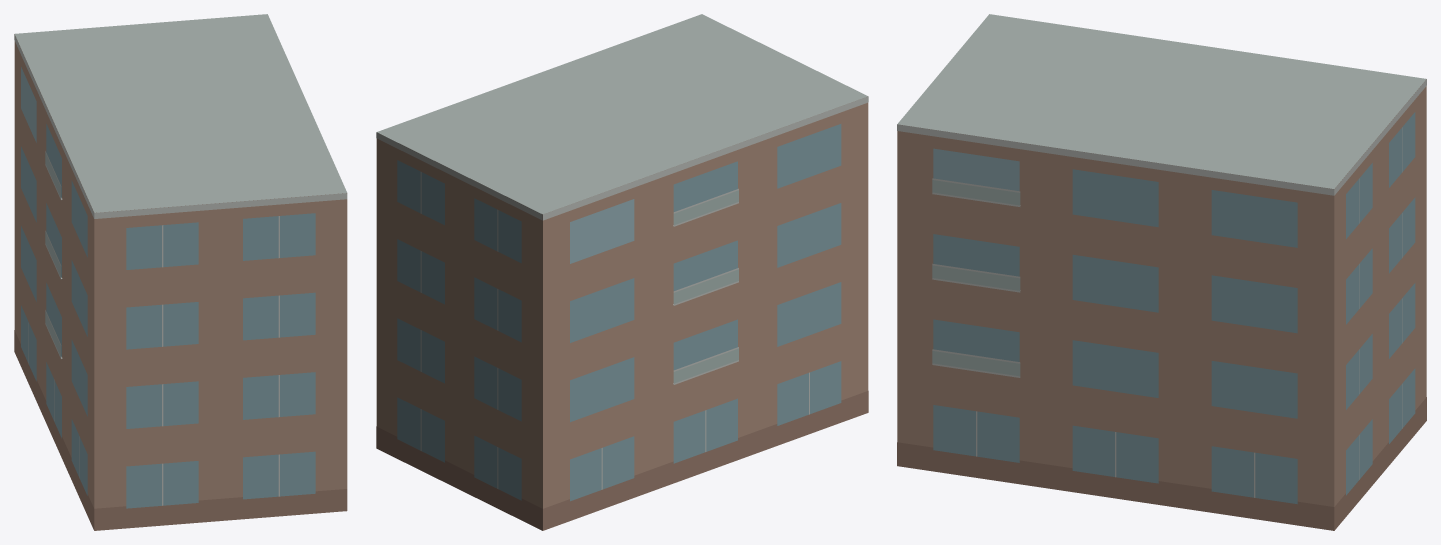
File: survey-upis-32886766.glb
3 renders of one model, left to right at view 1: azimuth 30°, elevation 25°; view 2: azimuth 150°, elevation 25°; view 3: azimuth 270°, elevation 25°, orthographic. The views are drawn at different scales.
Visible parts, largest first — view 1: survey-upis-32886766.tmp; view 2: survey-upis-32886766.tmp; view 3: survey-upis-32886766.tmp.
Part boxes in pixels (<box>): survey-upis-32886766.tmp: <box>14,14,347,530</box>; survey-upis-32886766.tmp: <box>376,14,868,530</box>; survey-upis-32886766.tmp: <box>897,14,1426,530</box>.
Bounding box in the file's own units: 13.74 × 12.5 × 17.57.
